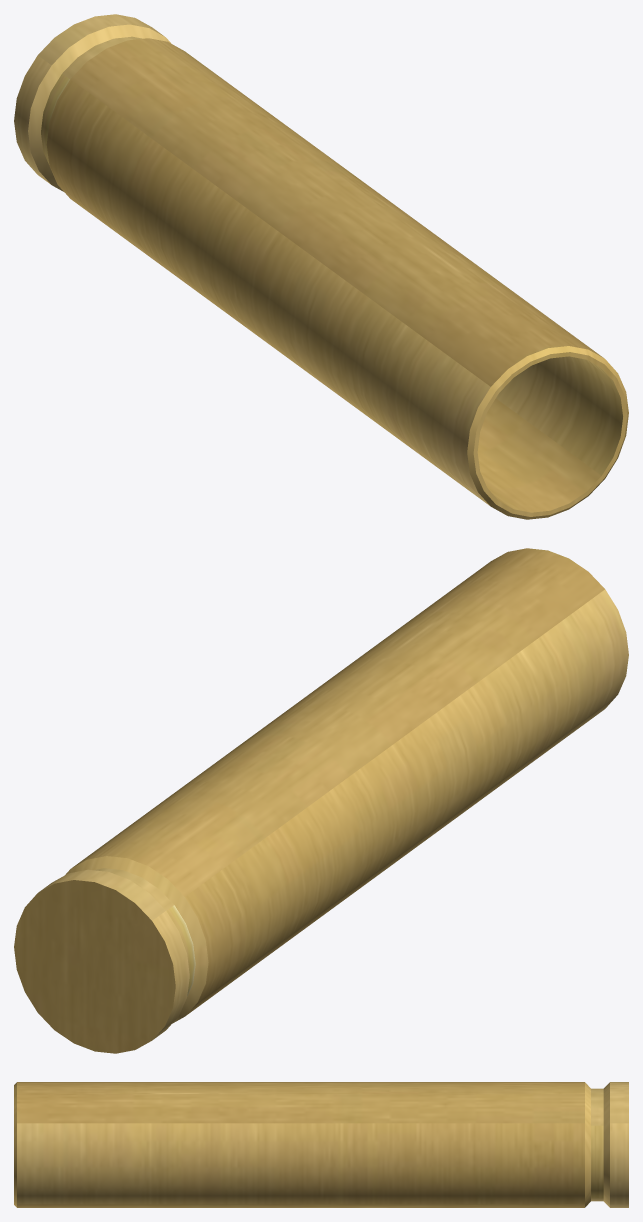
File: Shell.fbx
3 views of the same model, one above another, from view 1: azimuth 30°, elevation 25°; view 2: azimuth 150°, elevation 25°; view 3: azimuth 270°, elevation 25° (orthographic). The views are drawn at different scales.
Parts seen in each view (by area): view 1: Empty_Mesh; view 2: Empty_Mesh; view 3: Empty_Mesh.
Part boxes in pixels (x1,y1,x2,y2): Empty_Mesh: (14, 14, 628, 519); Empty_Mesh: (14, 548, 628, 1053); Empty_Mesh: (14, 1082, 628, 1207).
Size of the model in its own units: 2 by 2 by 9.75.
